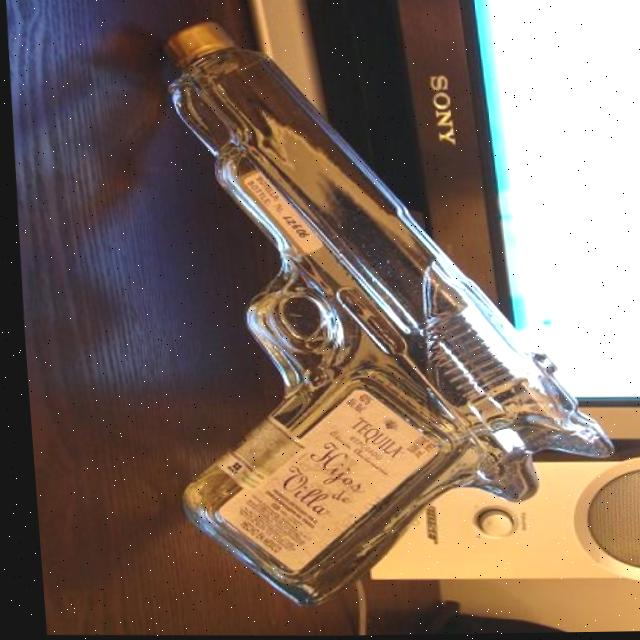pistol: (140, 19, 621, 610)
